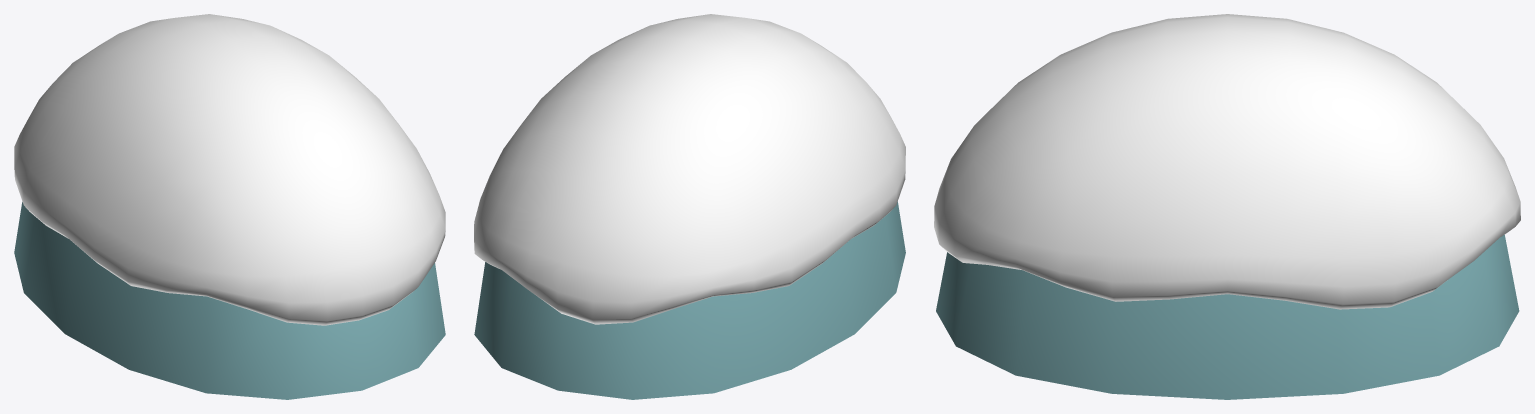
The model's file is buisson-neige.gltf.
3 views of the same model, side by side, from view 1: azimuth 30°, elevation 25°; view 2: azimuth 150°, elevation 25°; view 3: azimuth 270°, elevation 25° (orthographic). The views are drawn at different scales.
Parts seen in each view (by area): view 1: buisson, buisson.001; view 2: buisson, buisson.001; view 3: buisson, buisson.001.
Part boxes in pixels (left/top/right/bottom): buisson: left=14, top=14, right=445, bottom=325; buisson.001: left=14, top=202, right=445, bottom=399; buisson: left=474, top=14, right=905, bottom=324; buisson.001: left=474, top=201, right=905, bottom=399; buisson: left=934, top=14, right=1520, bottom=309; buisson.001: left=936, top=235, right=1519, bottom=399.
Size of the model in its own units: 0.6486 by 0.4742 by 0.9019.
